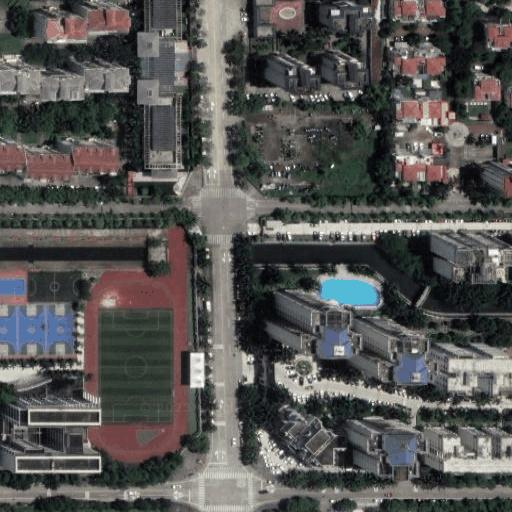building: (137, 0, 189, 180), (258, 293, 327, 342), (414, 294, 512, 327), (427, 427, 512, 464), (277, 410, 336, 462), (344, 319, 402, 370), (432, 345, 503, 382), (346, 420, 399, 465), (393, 47, 446, 90), (431, 233, 494, 265), (396, 99, 455, 126), (315, 433, 358, 468), (3, 397, 81, 416), (62, 138, 110, 167), (2, 441, 89, 457), (328, 6, 374, 35), (397, 155, 448, 181), (391, 0, 445, 23), (19, 147, 63, 174), (73, 61, 118, 87), (28, 71, 73, 96), (261, 56, 298, 84), (310, 51, 345, 80), (74, 1, 118, 24), (32, 11, 75, 34), (2, 415, 29, 442), (486, 25, 512, 51), (484, 162, 512, 186), (50, 415, 74, 442), (183, 350, 200, 386), (475, 79, 499, 101), (256, 27, 275, 38)
